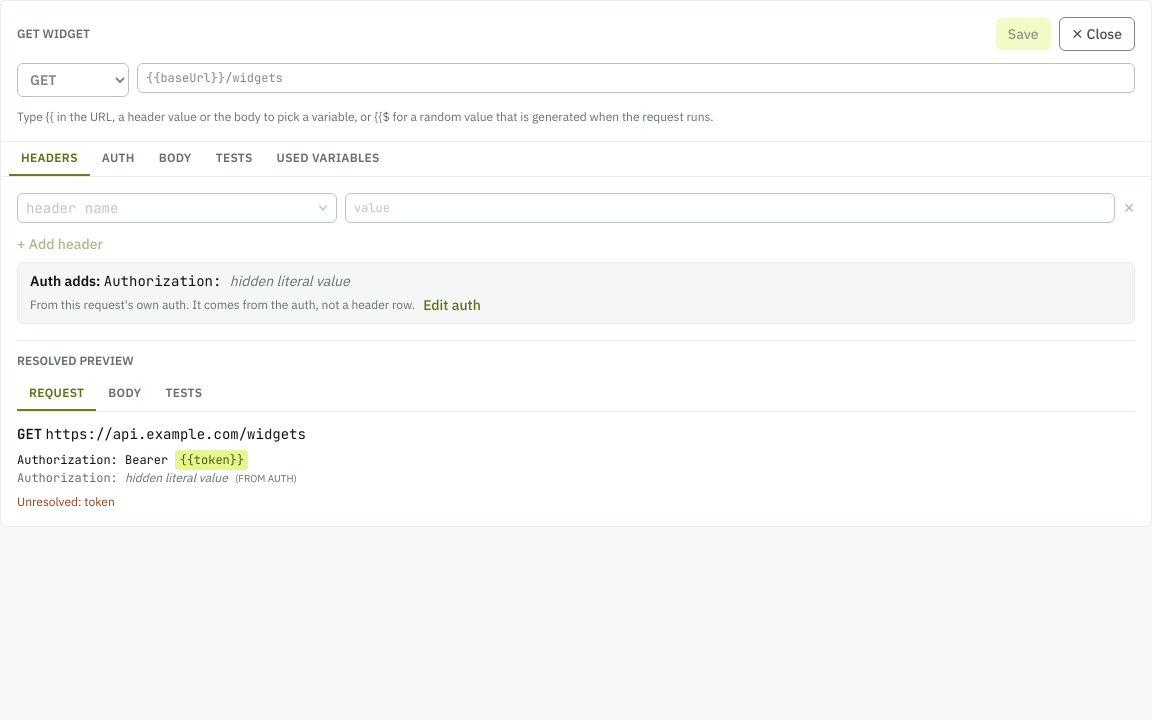
Test: RequestEditorPanel — editing the request's own auth (FR-002c) › disables the auth controls while locked
Click the tab "Auth". click: click(118, 159)
box: [90, 142, 147, 176]
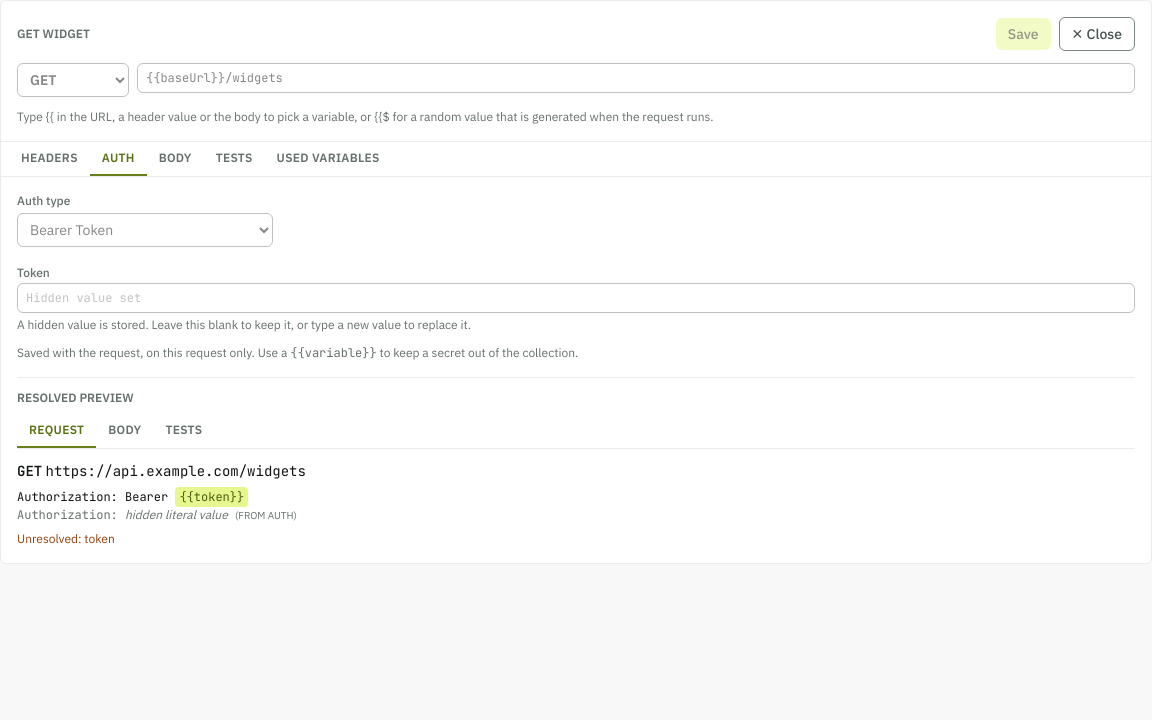
Check: the dropdown named "Token" is disabled, box [17, 283, 1135, 313]
Check: the dropdown labelled "Auth type" is disabled, box [17, 213, 273, 247]
